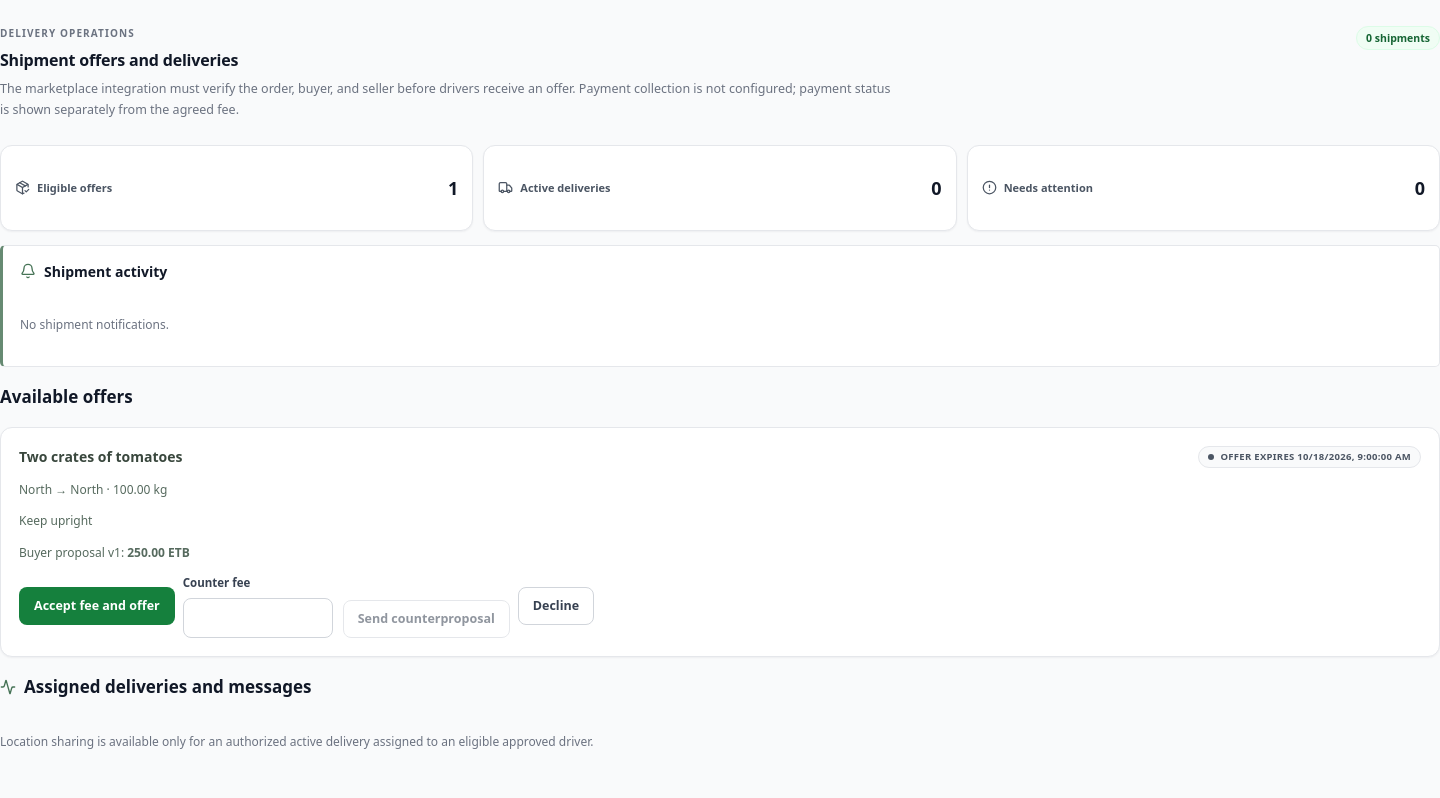
Test: Phase 3 shipment workspace › keeps addresses hidden in an offer and displays them after assignment
Expected: the text "Two crates of tomatoes" is shown, top-left (19, 446), bottom-right (182, 468)
Expected: the text "Private farm gate" is not shown
Click the button "Accept fee and offer": (97, 606) top-left (19, 587), bottom-right (175, 625)
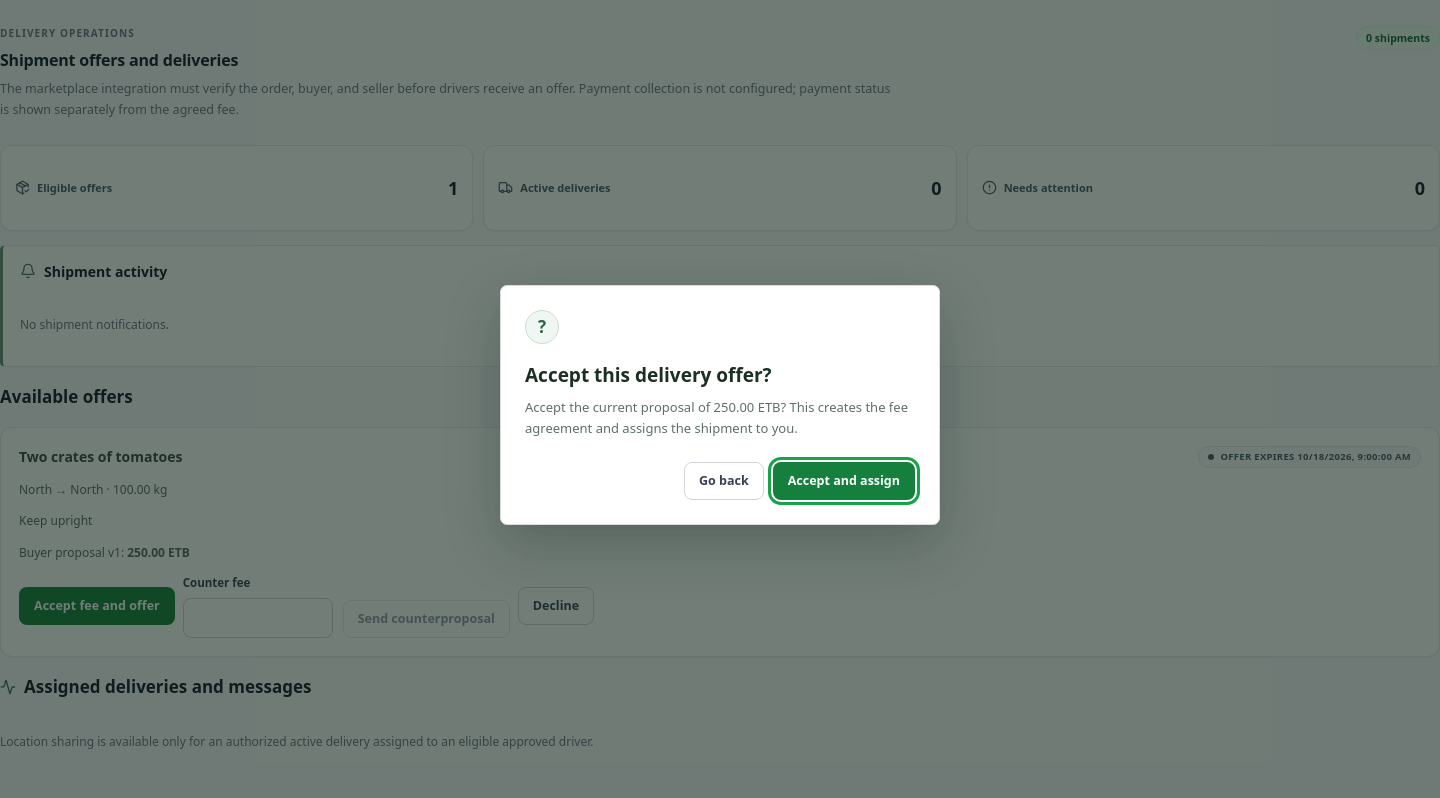
Click the button "Accept and assign": (844, 481) top-left (773, 462), bottom-right (915, 500)
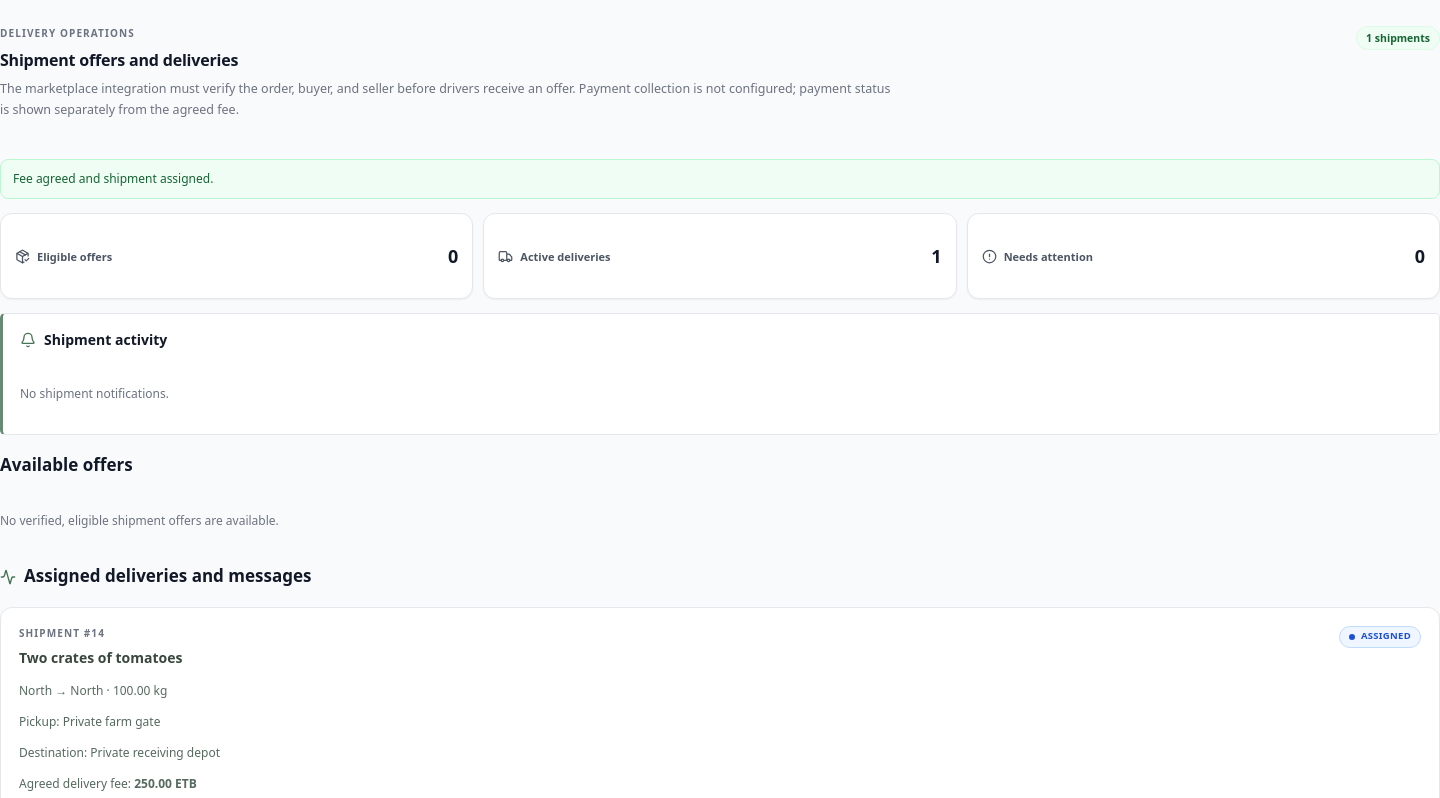
Expected: the text "Pickup: Private farm gate" is shown, top-left (19, 713), bottom-right (160, 730)
Expected: the text "Destination: Private receiving depot" is shown, top-left (19, 744), bottom-right (220, 761)
